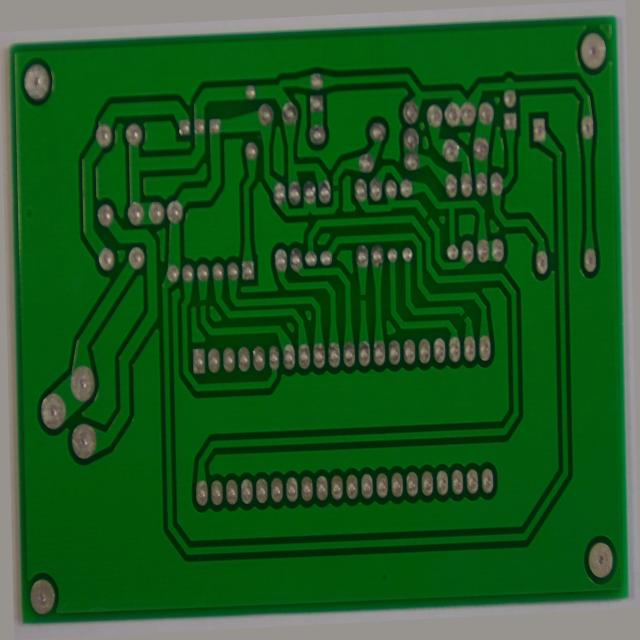open_circuit: (425, 210, 440, 225), (460, 316, 475, 331), (195, 287, 208, 304), (334, 174, 346, 190), (359, 290, 370, 306)
